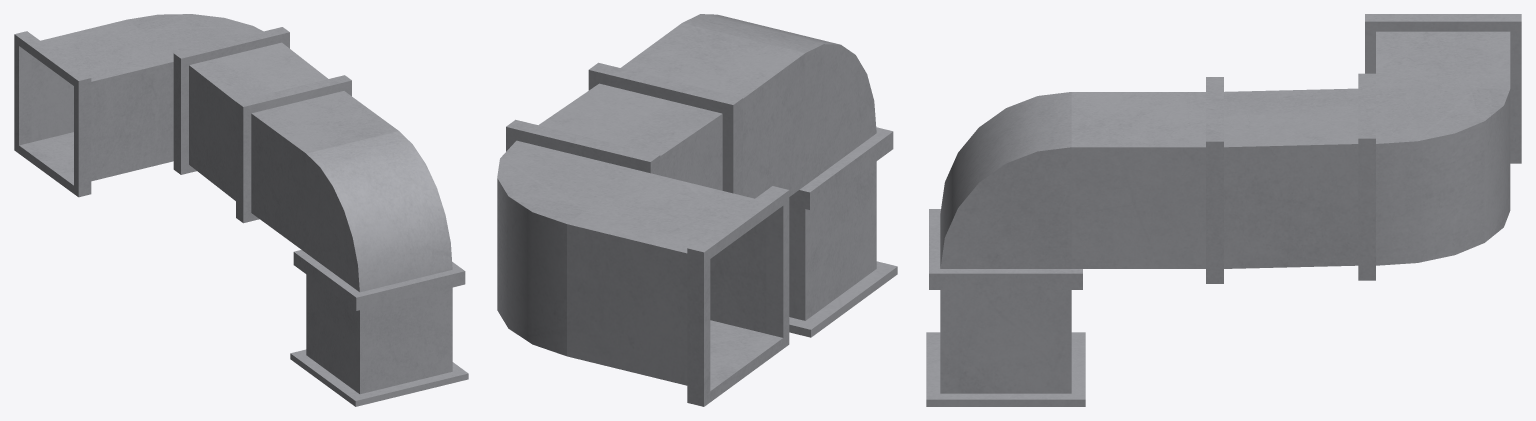
Rendered from vententrance.glb.
3 views of the same model, side by side, from view 1: azimuth 30°, elevation 25°; view 2: azimuth 150°, elevation 25°; view 3: azimuth 270°, elevation 25° (orthographic). The views are drawn at different scales.
Visible parts, largest first — view 1: Plane.001; view 2: Plane.001; view 3: Plane.001.
Part boxes in pixels (x1=…): Plane.001: x1=14, y1=14, x2=468, y2=406; Plane.001: x1=497, y1=14, x2=897, y2=406; Plane.001: x1=926, y1=14, x2=1521, y2=406.
Size of the model in its own units: 3.32 by 3.29 by 6.65.
1 material, 1 textured.
